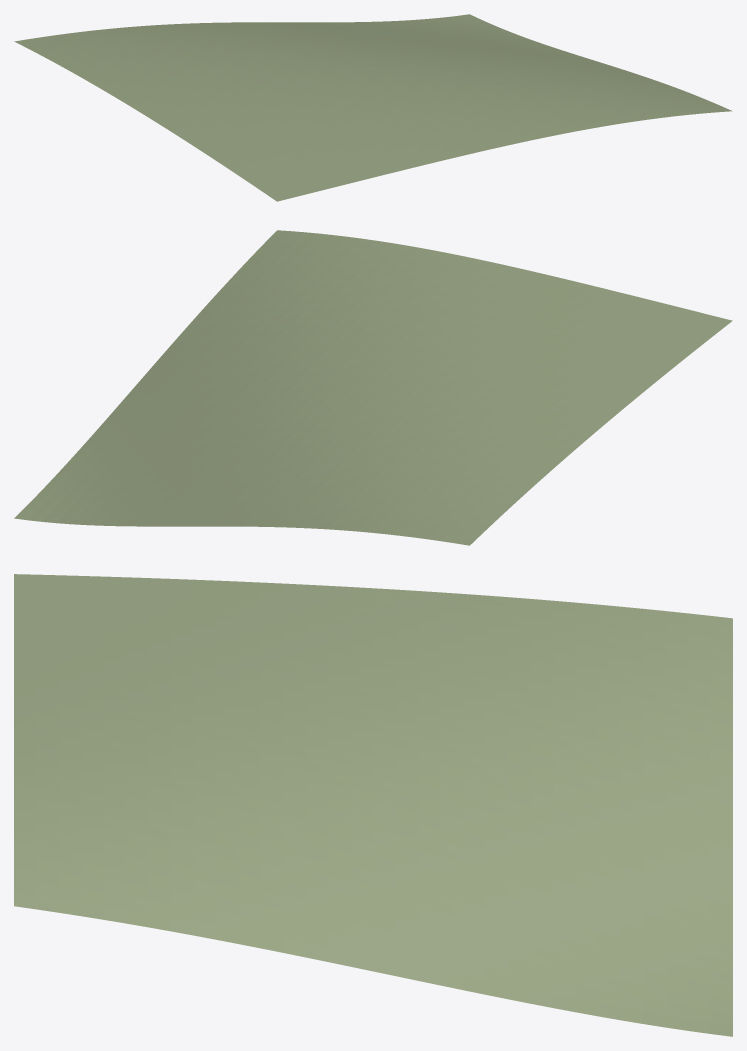
File: expanse-8-10.glb
3 renders of one model, top to bottom at view 1: azimuth 30°, elevation 25°; view 2: azimuth 150°, elevation 25°; view 3: azimuth 270°, elevation 25°, orthographic. The views are drawn at different scales.
Parts seen in each view (by area): view 1: expanse-8-10; view 2: expanse-8-10; view 3: expanse-8-10.
Part boxes in pixels (bbox=[...]): expanse-8-10: bbox=[14, 14, 732, 201]; expanse-8-10: bbox=[14, 230, 732, 545]; expanse-8-10: bbox=[14, 574, 732, 1036].
Size of the model in its own units: 256 by 62.85 by 256.
